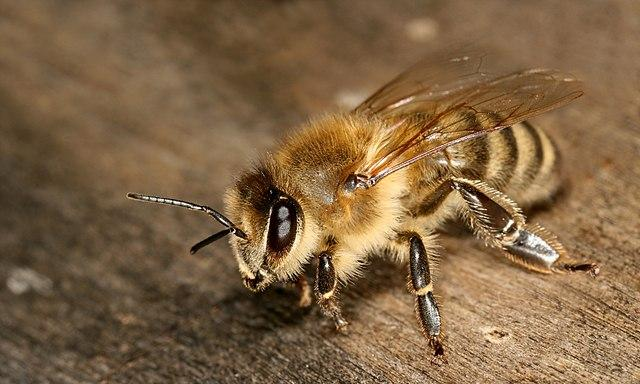Apis-mellifera-scutellata: (136, 50, 607, 359)
